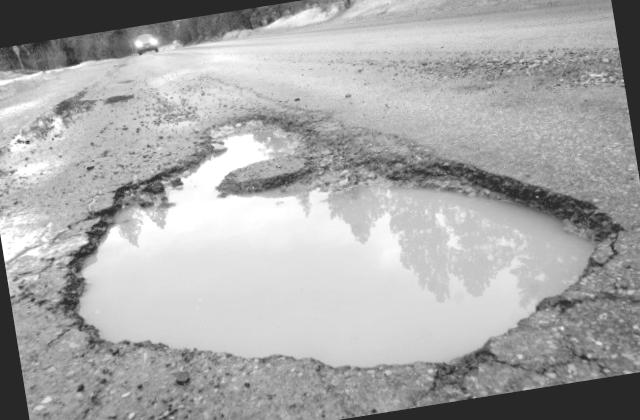Pothole: (36, 60, 634, 420)
